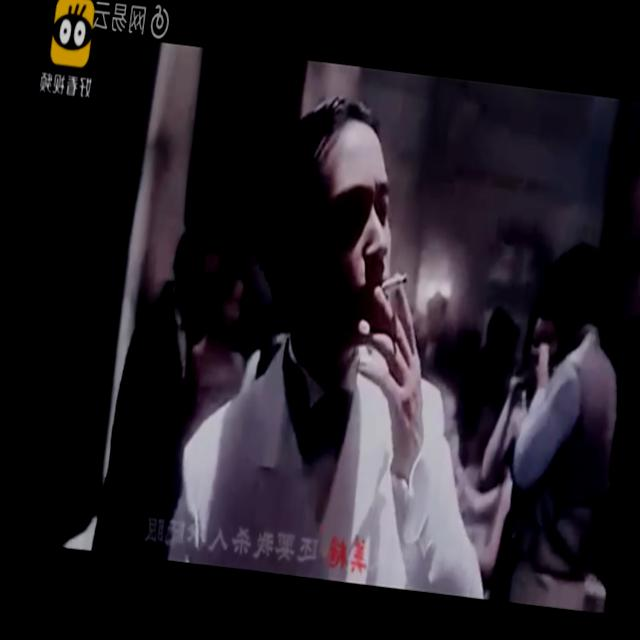cigarette: (380, 266, 410, 302)
